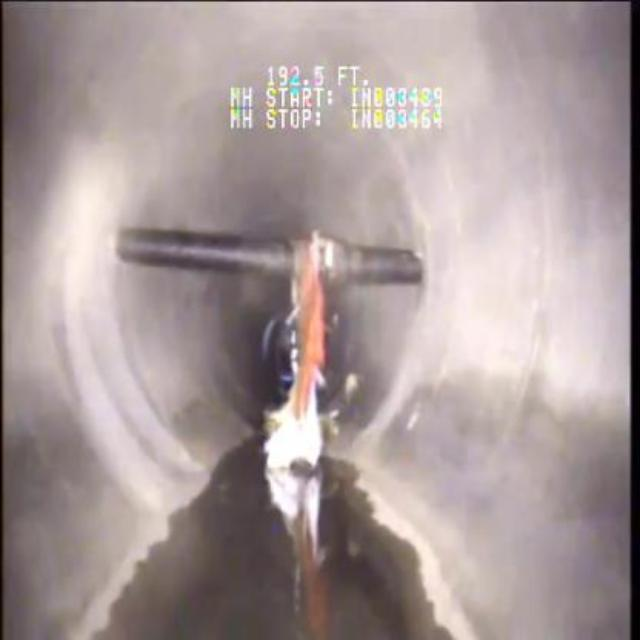Utility intrusion: (112, 222, 425, 291)
